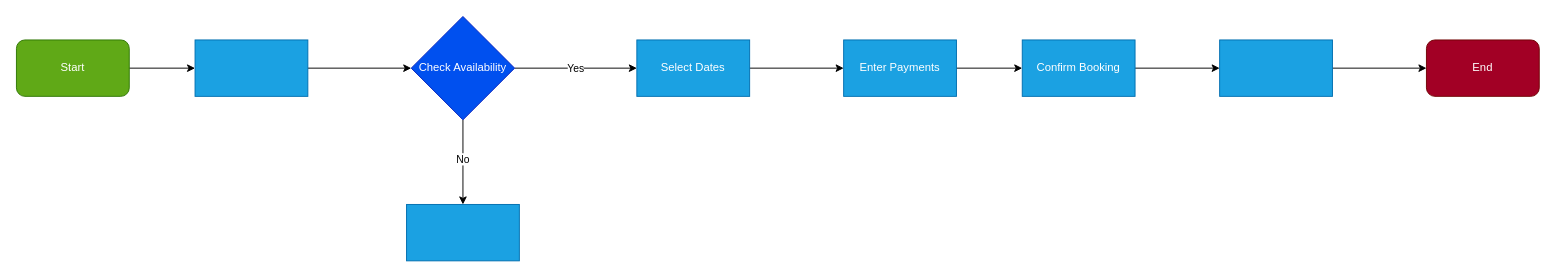
Image size: 1556x277. Some labels were removed from this diagram. Here are the shapes that lost their labels. From the top down, the centre of each, then its label:
At pixel 251 67: "Search Properties".
At pixel 1275 67: "Send Notification".
At pixel 462 232: "Show alternatives".
